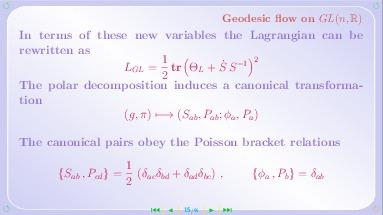paragraph: (14, 29, 368, 195)
title: (218, 9, 370, 29)
